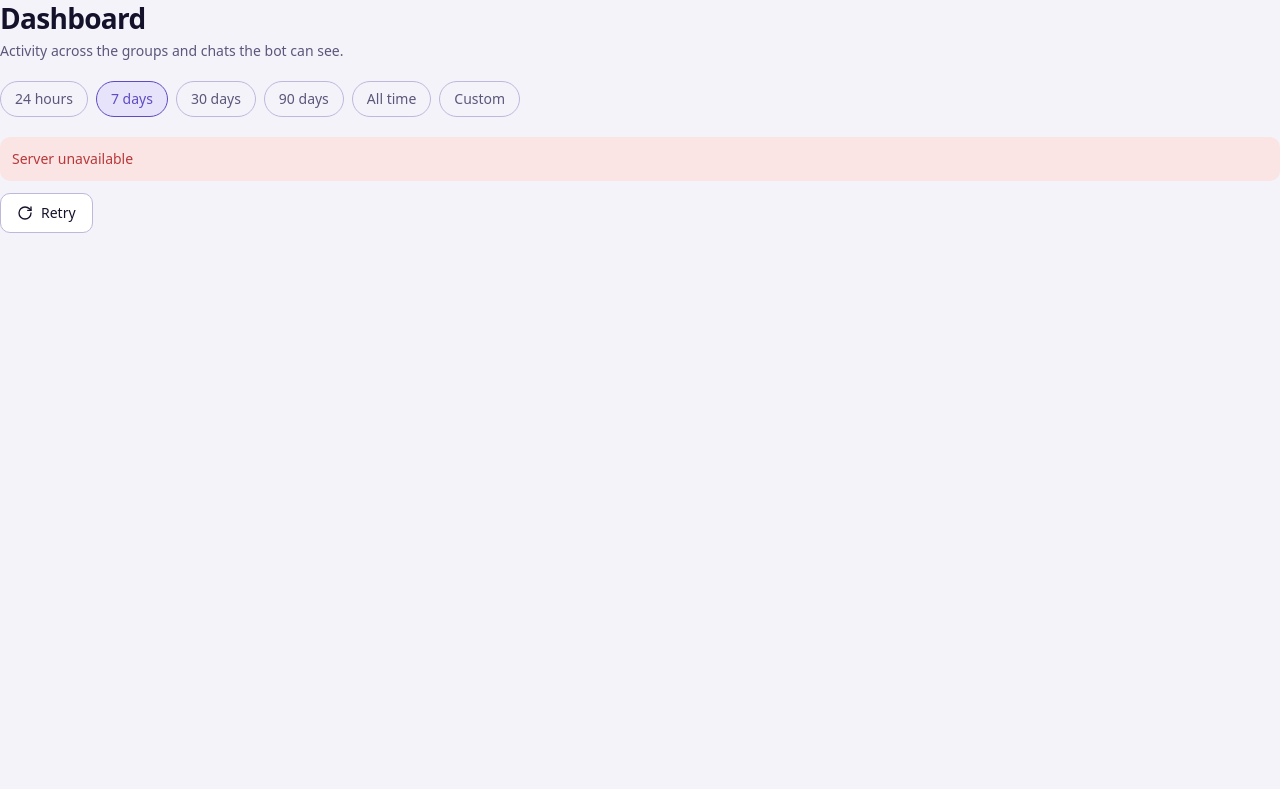
Test case: Dashboard states › shows an inline error with Retry, and recovers
Check: the message reads "Server unavailable", box [12,149,133,168]
Click the button "Retry".
click(46, 213)  # box [0,193,93,233]
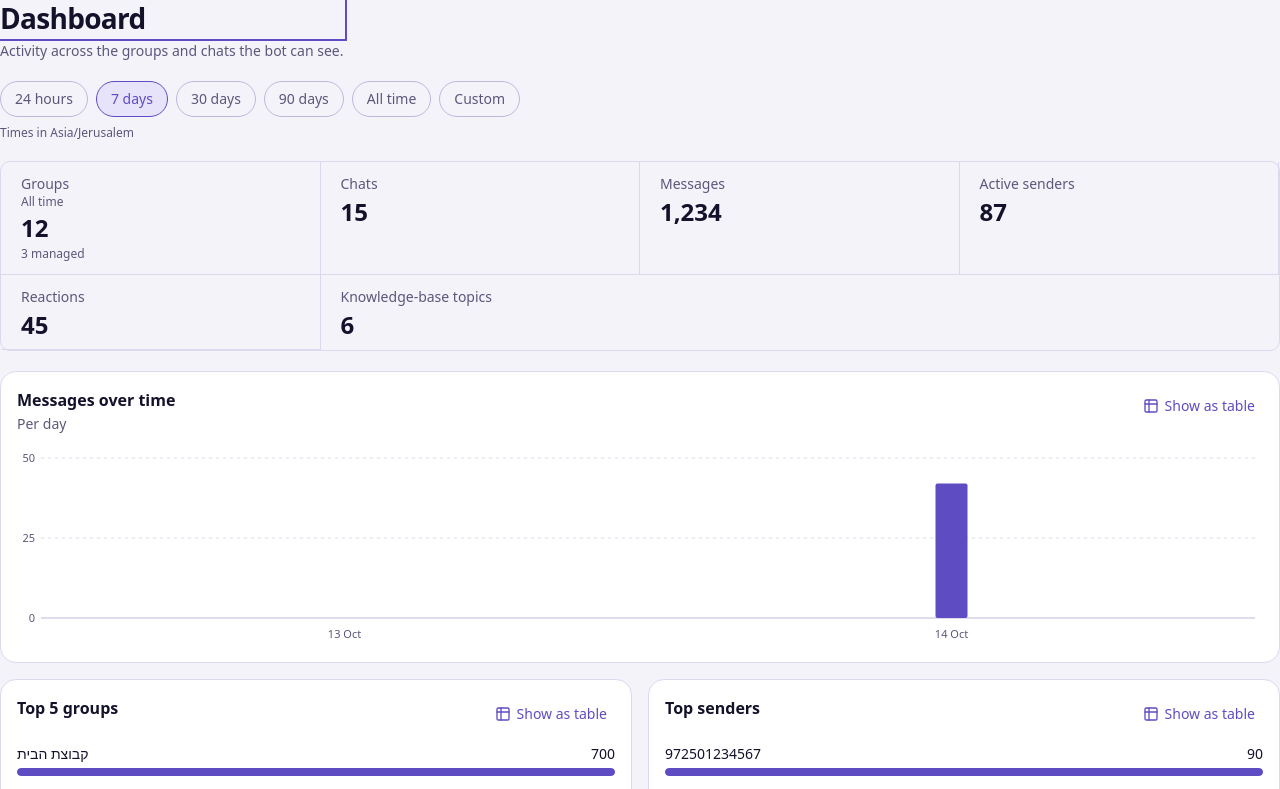
Check: the text "1,234" is shown, box [660,195,722,228]
Check: the message "Server unavailable" is gone
